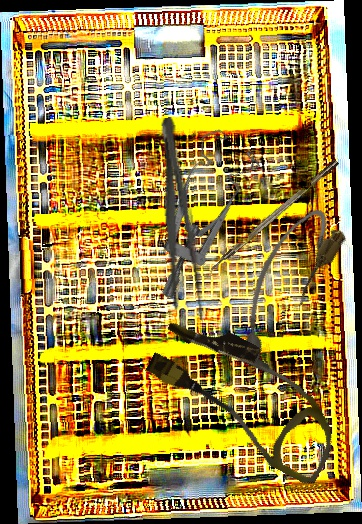Cannula: (133, 305, 359, 488), (213, 199, 353, 373)
Chopper: (202, 159, 345, 282)
Dressing Forceps: (148, 115, 209, 324)
Speculum: (102, 118, 288, 302)
